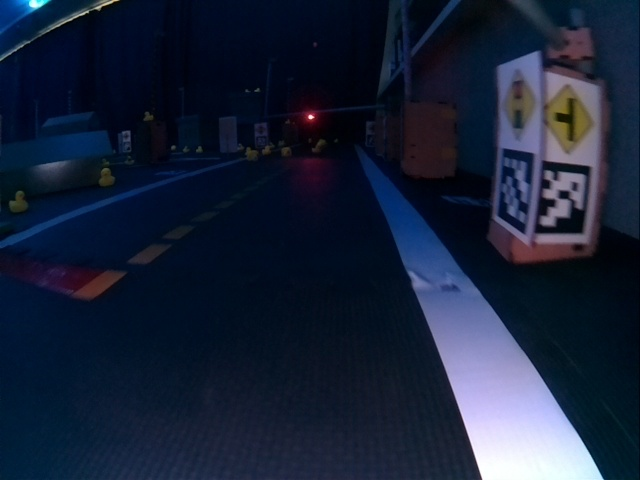Duckie: (14, 191, 26, 211), (99, 170, 112, 180), (281, 147, 291, 156), (311, 145, 321, 153), (144, 113, 153, 121), (196, 147, 205, 155), (184, 145, 191, 153), (247, 151, 253, 155)
Intersection sign: (543, 84, 593, 156)
QR code: (534, 163, 590, 234), (497, 147, 534, 234)
Signal sign: (499, 66, 539, 141)
Traffic light: (307, 111, 316, 121)
